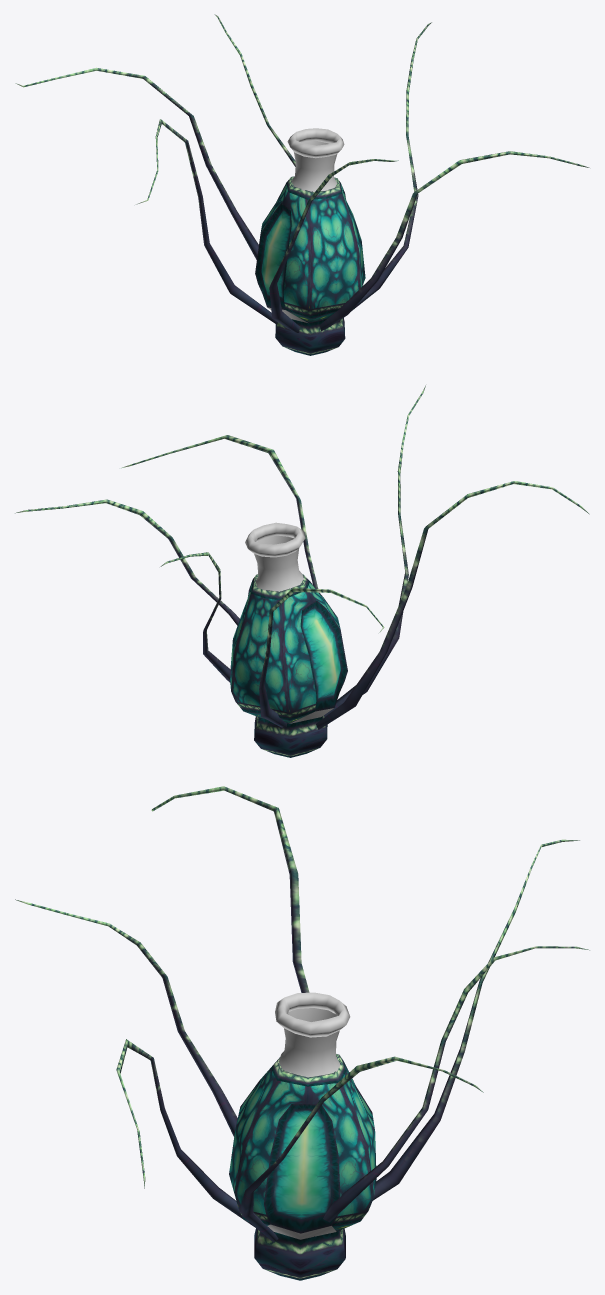
Rendered from Bio_weapon_01_b.fbx.
3 views of the same model, one above another, from view 1: azimuth 30°, elevation 25°; view 2: azimuth 150°, elevation 25°; view 3: azimuth 270°, elevation 25° (orthographic). The views are drawn at different scales.
Visible parts, largest first — view 1: Bio_weapon_01_b; view 2: Bio_weapon_01_b; view 3: Bio_weapon_01_b.
Boxes of the visible parts, x1=… form: Bio_weapon_01_b: x1=15, y1=14, x2=589, y2=355; Bio_weapon_01_b: x1=15, y1=385, x2=589, y2=757; Bio_weapon_01_b: x1=15, y1=786, x2=589, y2=1280.
Size of the model in its own units: 7.29 by 4.3 by 6.12.
